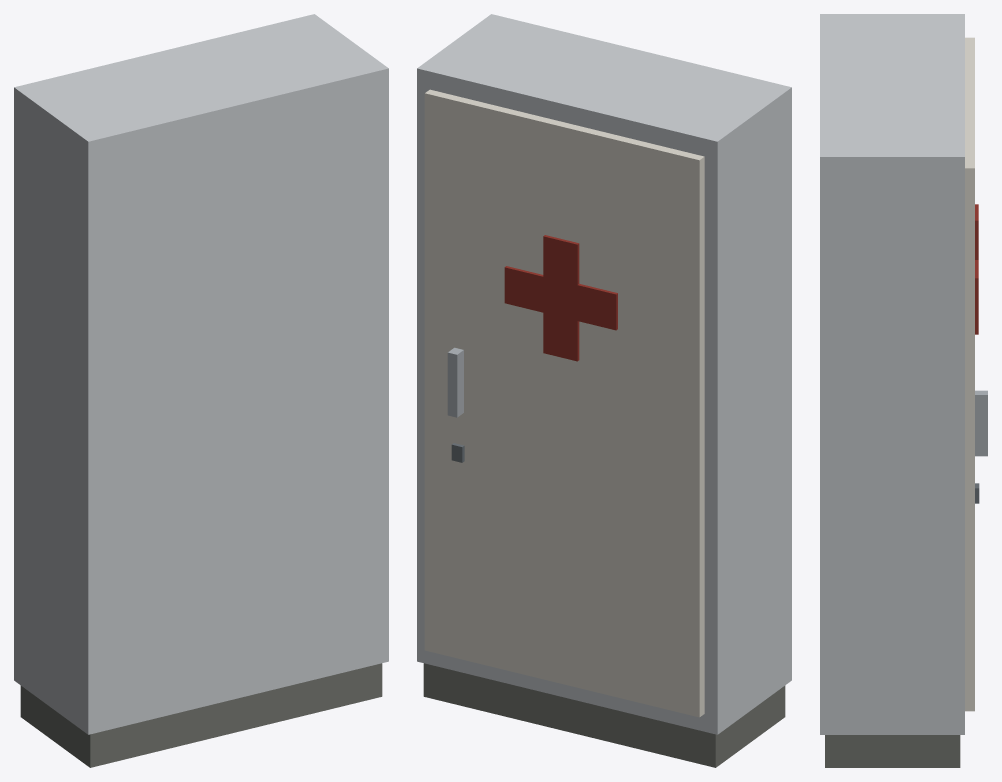
Rendered from med_cabinet.glb.
3 renders of one model, left to right at view 1: azimuth 30°, elevation 25°; view 2: azimuth 150°, elevation 25°; view 3: azimuth 270°, elevation 25°, orthographic. The views are drawn at different scales.
Parts seen in each view (by area): view 1: med_cabinet; view 2: med_cabinet; view 3: med_cabinet.
Part boxes in pixels (left/top/right/bottom): med_cabinet: left=14, top=14, right=388, bottom=767; med_cabinet: left=417, top=14, right=791, bottom=767; med_cabinet: left=820, top=14, right=987, bottom=767.
Size of what is drawn, in the model's own units: 0.7 by 1.4 by 0.3475.
Materials: 2 (2 with a texture image).
